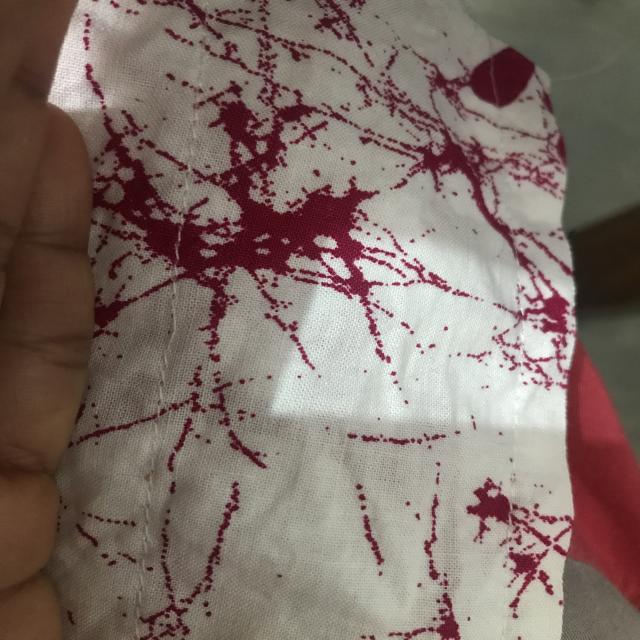skip: (150, 308, 183, 348)
